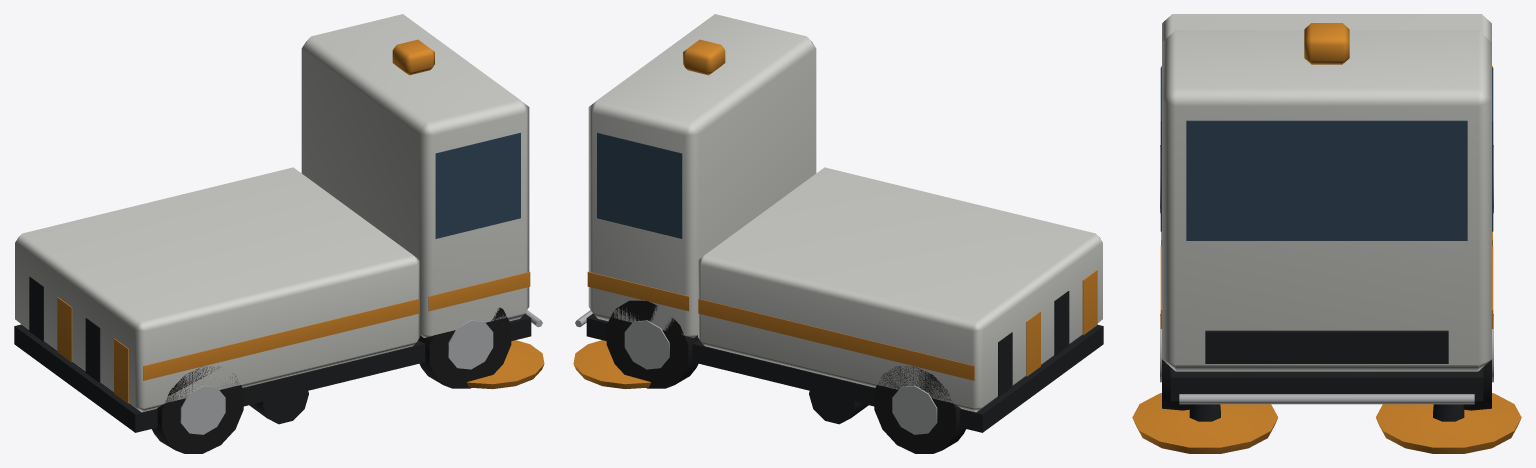
File: SweeperMIA.fbx
3 views of the same model, side by side, from view 1: azimuth 30°, elevation 25°; view 2: azimuth 150°, elevation 25°; view 3: azimuth 270°, elevation 25° (orthographic). The views are drawn at different scales.
Visible parts, largest first — view 1: SweeperMIA; view 2: SweeperMIA; view 3: SweeperMIA.
Boxes of the visible parts, <box> form: SweeperMIA: <box>14,14,544,453</box>; SweeperMIA: <box>573,14,1103,453</box>; SweeperMIA: <box>1132,14,1521,453</box>.
Bounding box in the file's own units: 3.57 × 2.43 × 2.24.
